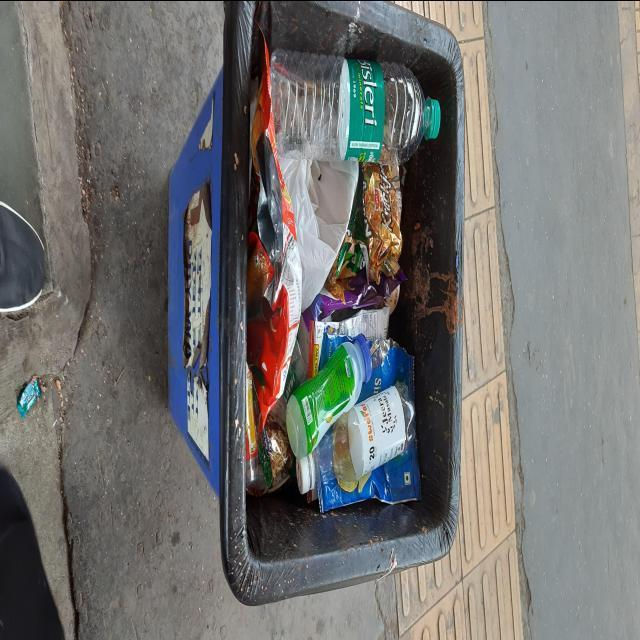Garbage: (246, 35, 440, 509)
Plastic_bottle: (270, 49, 440, 162), (296, 382, 415, 493), (286, 336, 372, 457)
Plastic_wraper: (246, 32, 302, 430), (302, 165, 405, 328), (318, 439, 420, 512), (309, 306, 389, 376), (362, 162, 402, 282), (360, 341, 414, 401), (258, 417, 292, 487), (400, 84, 401, 89)
